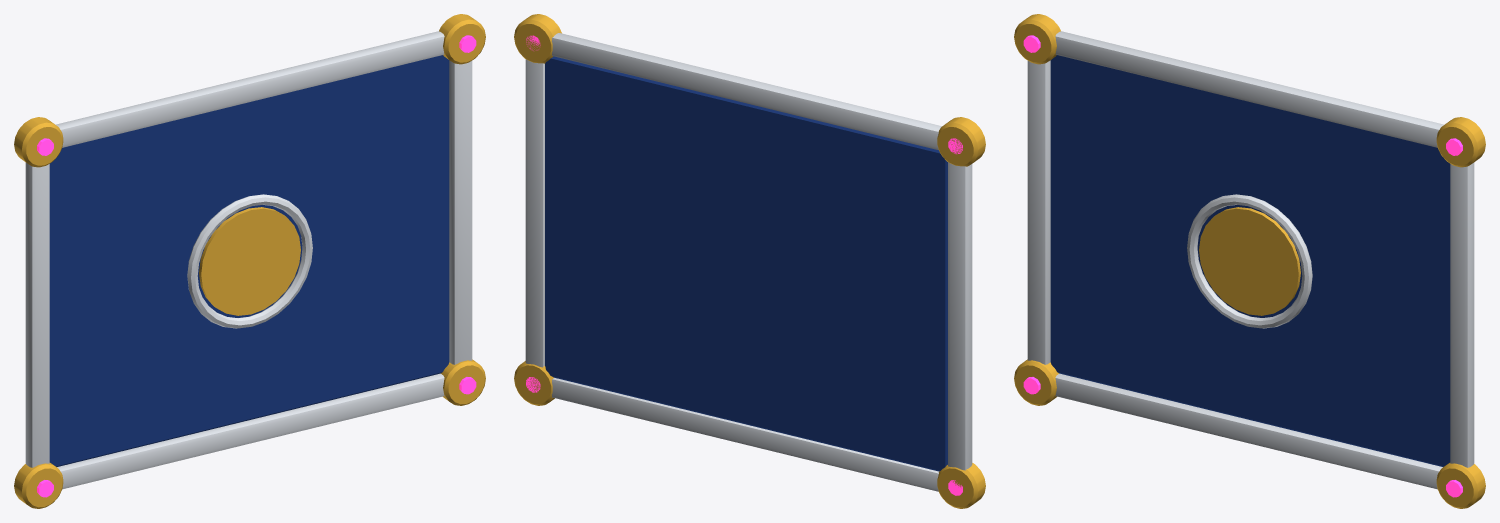
The model's file is rear_panel_frame.glb.
3 views of the same model, side by side, from view 1: azimuth 30°, elevation 25°; view 2: azimuth 150°, elevation 25°; view 3: azimuth 330°, elevation 25° (orthographic).
Parts seen in each view (by area): view 1: paint_blue, chrome, paint_gold, lamp_pink; view 2: paint_blue, chrome, paint_gold, lamp_pink; view 3: paint_blue, chrome, paint_gold, lamp_pink.
Part boxes in pixels (x1,y1,x2,y2): paint_blue: [49, 55, 449, 466]; chrome: [25, 31, 472, 489]; paint_gold: [14, 14, 485, 508]; lamp_pink: [37, 35, 476, 497]; paint_blue: [545, 56, 947, 471]; chrome: [525, 33, 972, 491]; paint_gold: [514, 14, 985, 508]; lamp_pink: [526, 35, 962, 495]; paint_blue: [1050, 55, 1450, 466]; chrome: [1027, 31, 1474, 489]; paint_gold: [1014, 14, 1485, 508]; lamp_pink: [1023, 35, 1462, 497].
Size of the model in its own units: 2.42 by 1.91 by 0.12.
